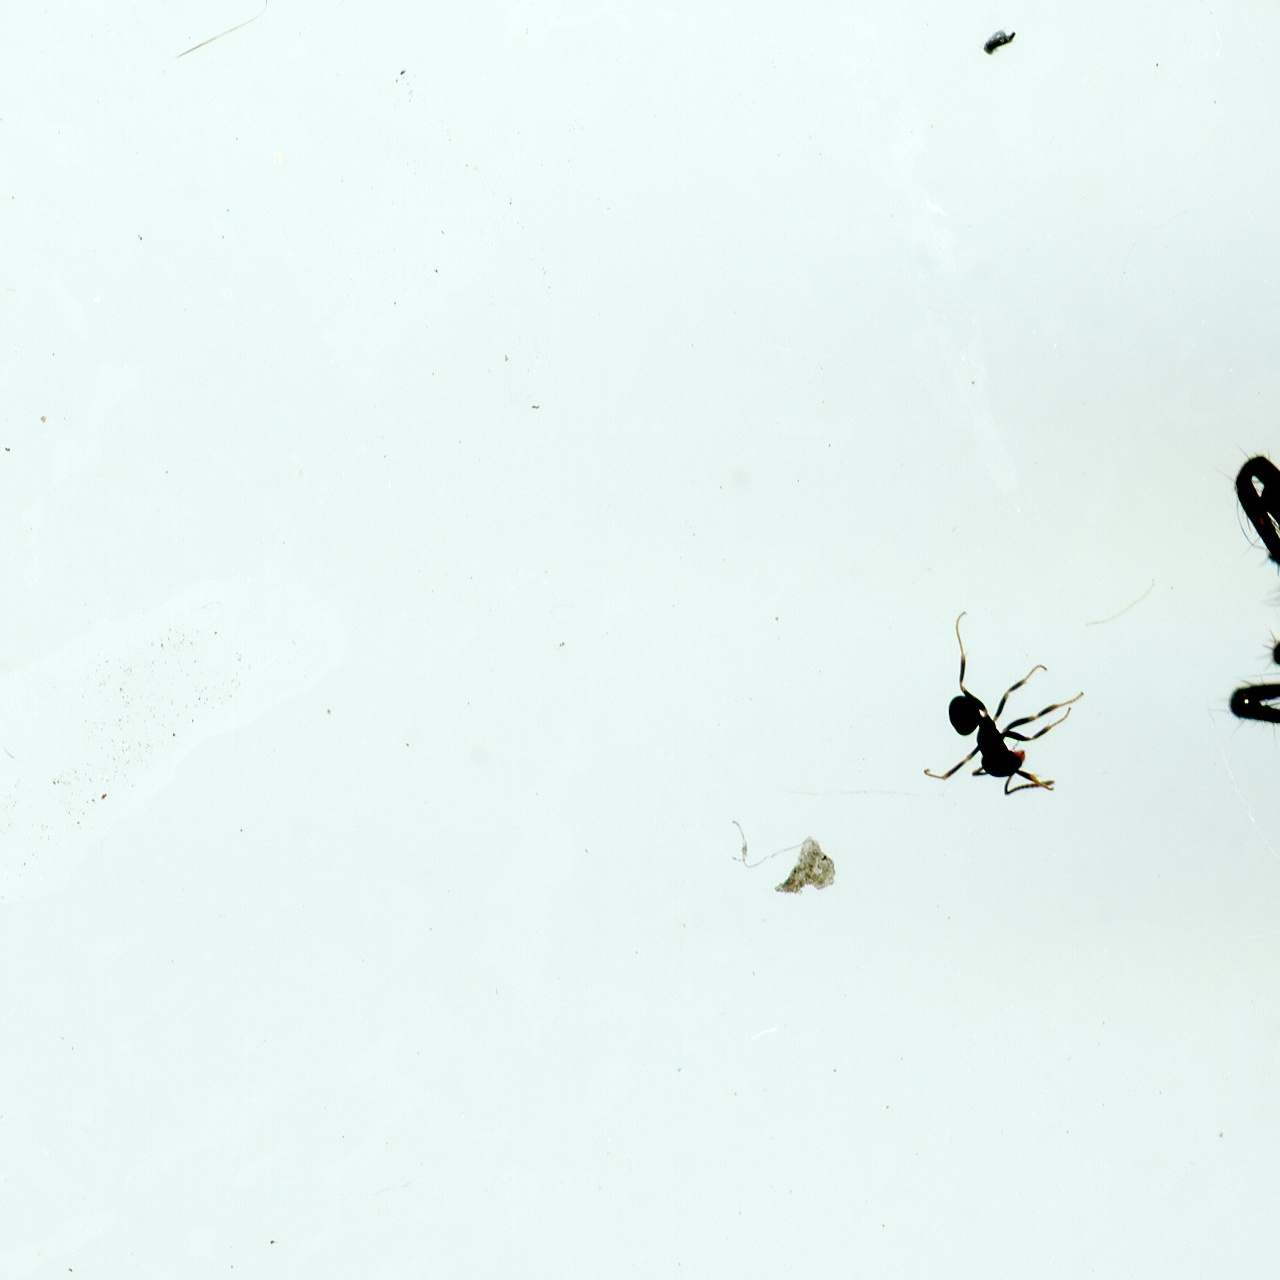arthropod: (921, 604, 1089, 796), (1213, 372, 1280, 802)
